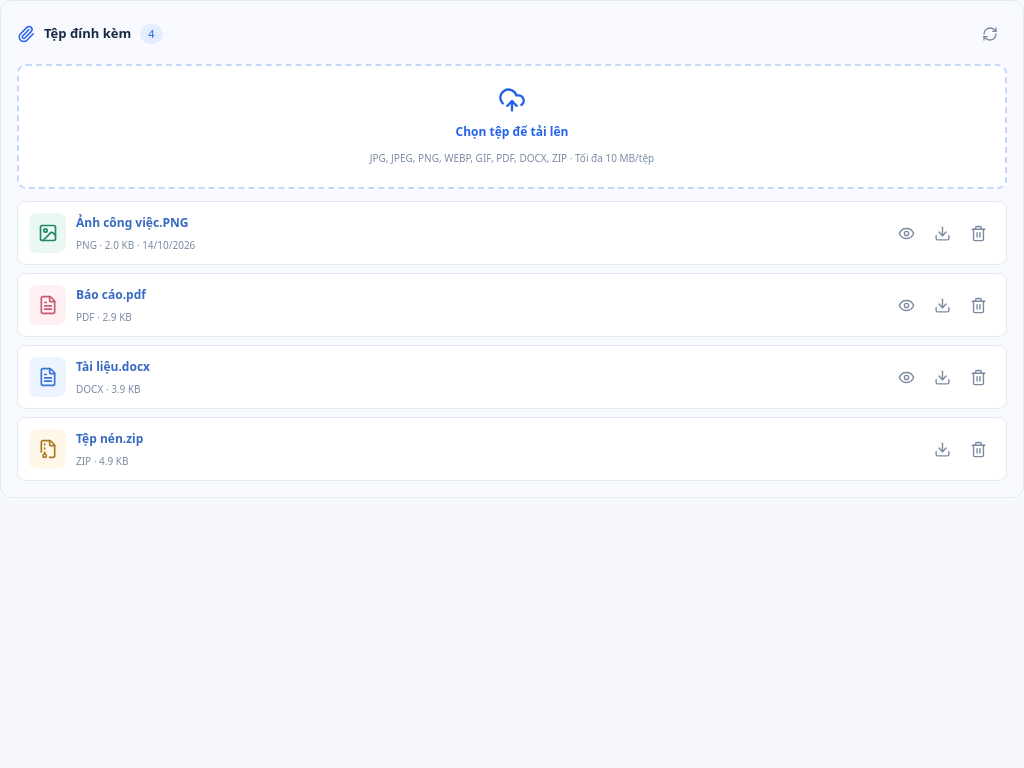
Test: Task attachment management › offers a download if the browser cannot show PDF
The width and height of the screenshot is (1024, 768).
Check: the file field named "Chọn tệp đính kèm" is enabled, box [0,85,1023,127]
Click the button named "Xem Báo cáo.pdf" at {"x": 906, "y": 305}, box [889,288,923,322]
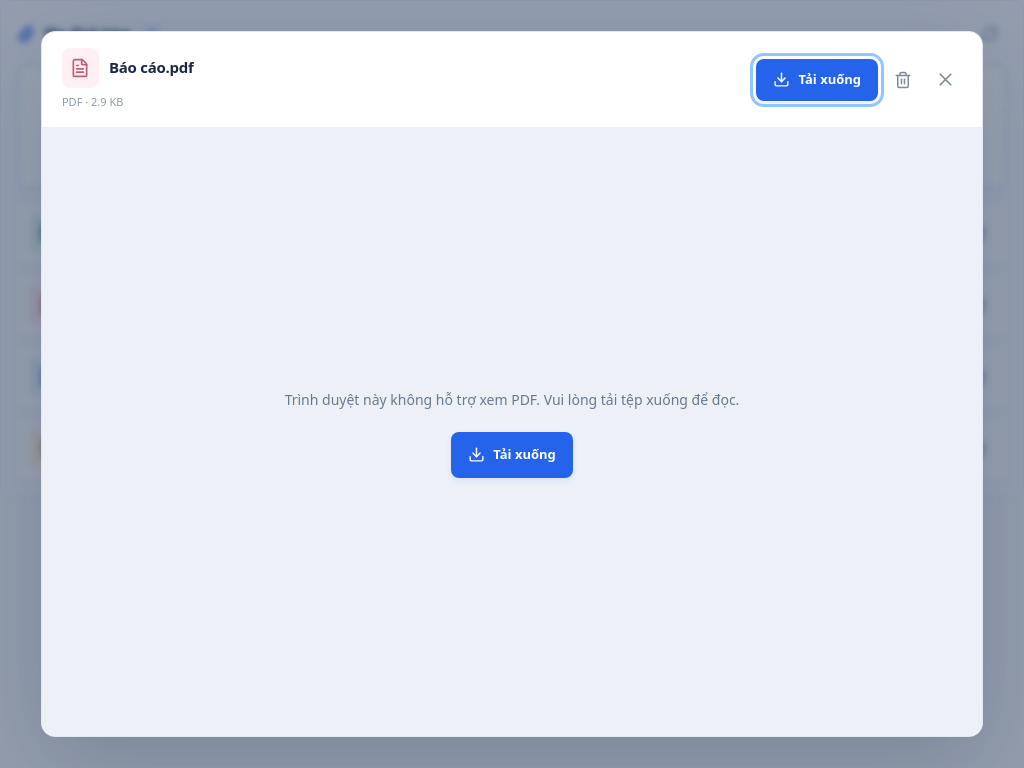
Check: the message shows "không hỗ trợ xem PDF", box [285,390,739,409]
